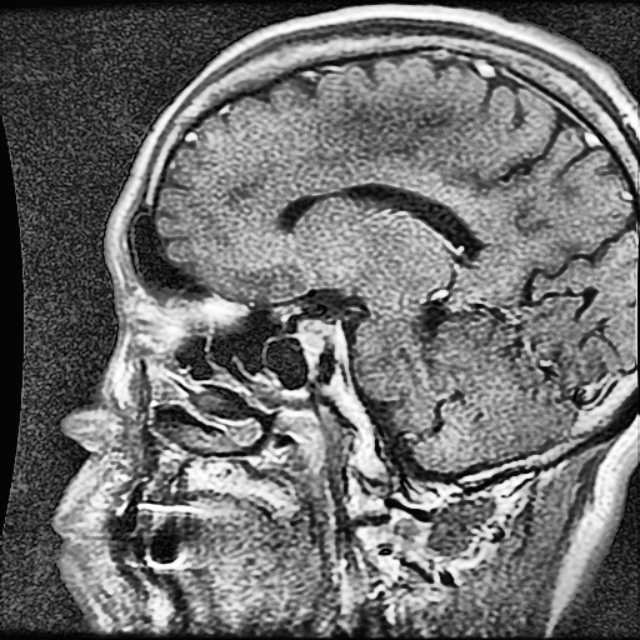Pituitary: (299, 317, 334, 355)
